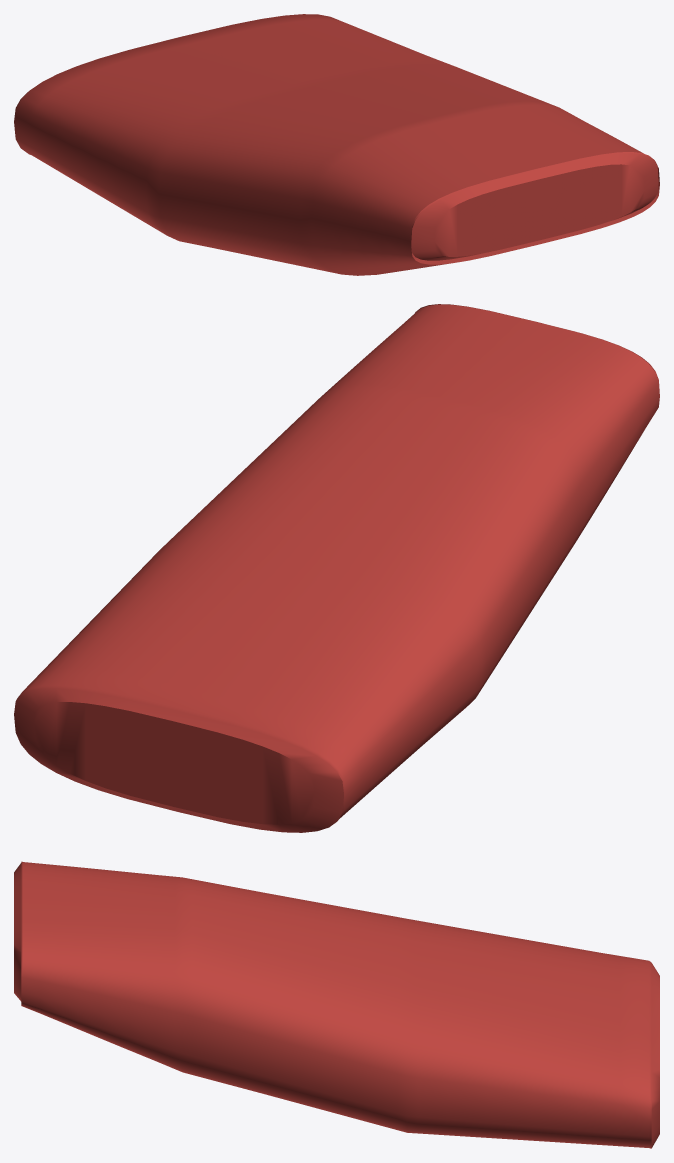
File: ducktail.glb
The picture shows the model from 3 angles, top to bottom: view 1: azimuth 30°, elevation 25°; view 2: azimuth 150°, elevation 25°; view 3: azimuth 270°, elevation 25°; orthographic projection. The views are drawn at different scales.
Parts seen in each view (by area): view 1: lod0; view 2: lod0; view 3: lod0.
Boxes of the visible parts, <box> form: lod0: <box>14,14,659,275</box>; lod0: <box>14,304,659,832</box>; lod0: <box>14,861,659,1148</box>.
Size of what is drawn, in the model's own units: 0.24 by 0.16 by 0.46.
